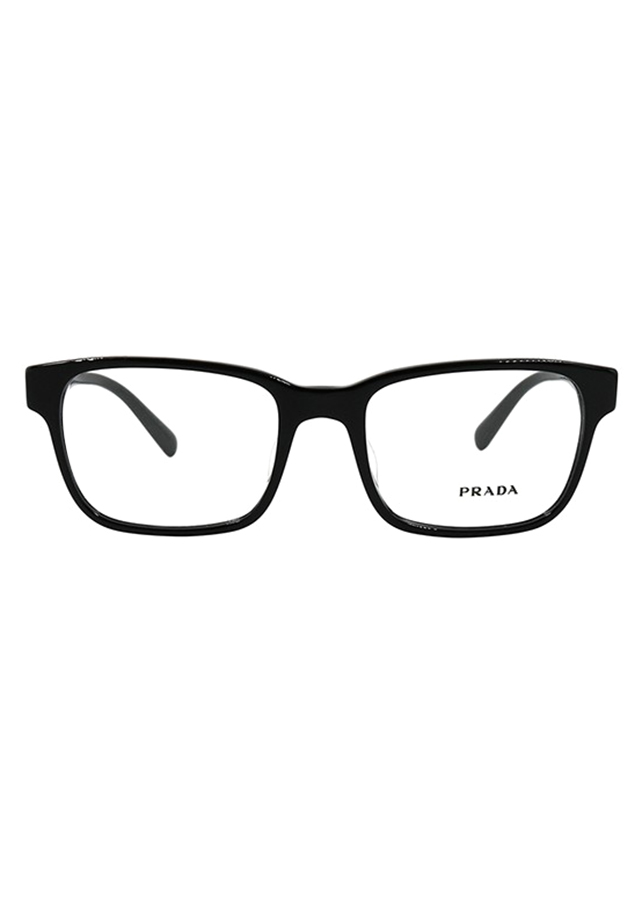Prada: (455, 481, 523, 501)
